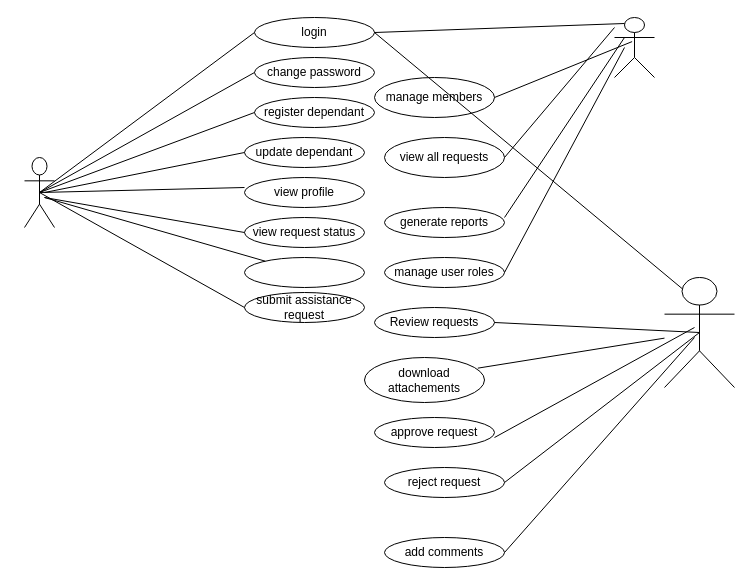
Some shapes in this 752 by 585 pixel diagram are drawn without their labels. Here are the shapes that lost their labels. From the top down, the box of each, then its label:
(614, 16, 654, 78): Admin
(24, 156, 54, 228): member
(244, 256, 364, 288): upload supporting documents
(664, 276, 734, 388): Approver
